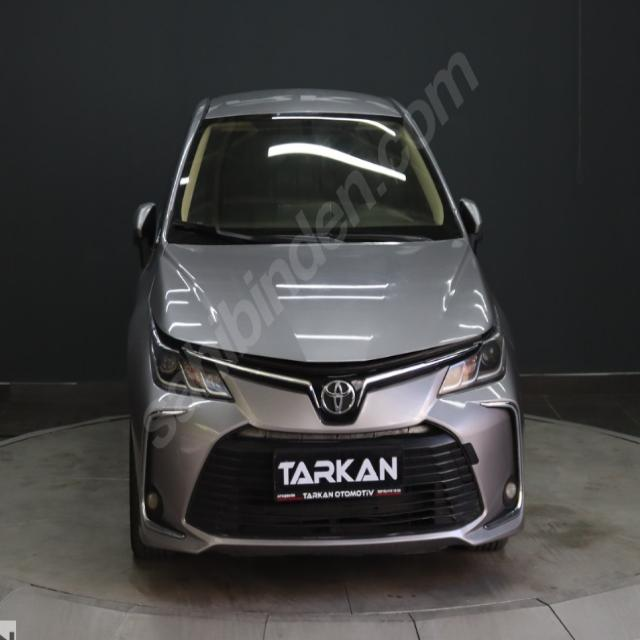toyota: (316, 374, 359, 419)
